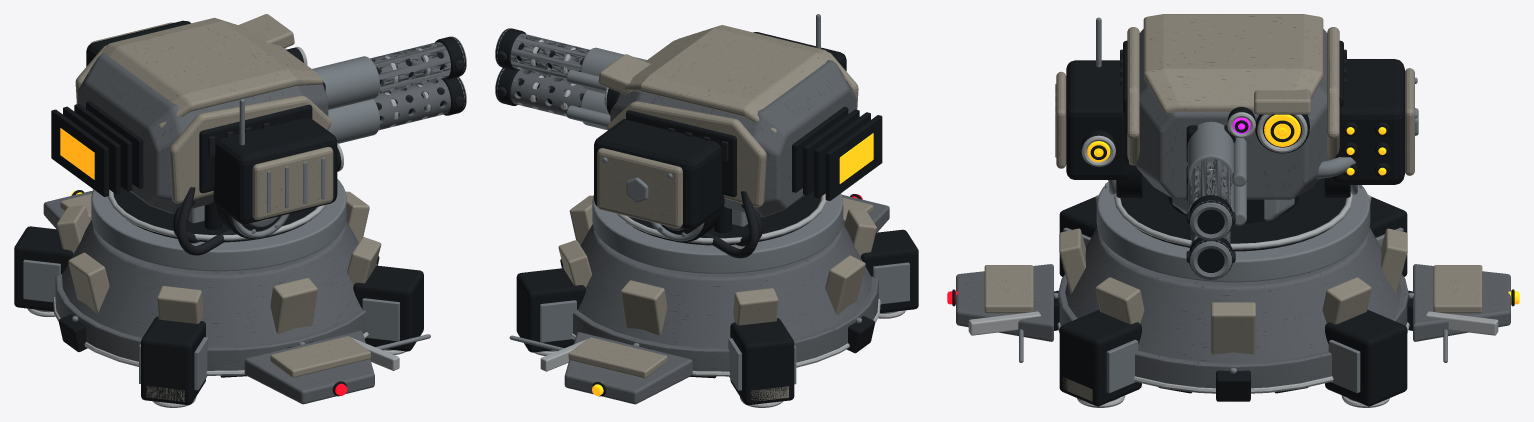
File: turret.glb
3 views of the same model, side by side, from view 1: azimuth 30°, elevation 25°; view 2: azimuth 150°, elevation 25°; view 3: azimuth 270°, elevation 25° (orthographic). The views are drawn at different scales.
Parts seen in each view (by area): view 1: AnchoredBase.001_CONCEPT2_armor.002, AimingHead.001_CONCEPT2_ceramic.002, AimingHead.001_CONCEPT2_dark.002, AimingHead.001_CONCEPT2_armor.002, AnchoredBase.001_CONCEPT2_dark.002, AnchoredBase.001_CONCEPT2_steel.002, AnchoredBase.001_CONCEPT2_ceramic.002, AimingHead.001_CONCEPT2_steel.002, AnchoredBase.001_CONCEPT2_edge.002, AimingHead.001_CONCEPT2_rubber.002, AimingHead.001_CONCEPT2_orange.002, AimingHead.001_CONCEPT2_edge.002; view 2: AnchoredBase.001_CONCEPT2_armor.002, AimingHead.001_CONCEPT2_ceramic.002, AimingHead.001_CONCEPT2_dark.002, AimingHead.001_CONCEPT2_armor.002, AnchoredBase.001_CONCEPT2_dark.002, AnchoredBase.001_CONCEPT2_steel.002, AnchoredBase.001_CONCEPT2_ceramic.002, AimingHead.001_CONCEPT2_steel.002, AnchoredBase.001_CONCEPT2_edge.002, AimingHead.001_CONCEPT2_rubber.002, AimingHead.001_CONCEPT2_orange.002, AimingHead.001_CONCEPT2_edge.002; view 3: AnchoredBase.001_CONCEPT2_armor.002, AimingHead.001_CONCEPT2_ceramic.002, AnchoredBase.001_CONCEPT2_dark.002, AimingHead.001_CONCEPT2_dark.002, AnchoredBase.001_CONCEPT2_ceramic.002, AnchoredBase.001_CONCEPT2_steel.002, AimingHead.001_CONCEPT2_armor.002, AimingHead.001_CONCEPT2_steel.002, AnchoredBase.001_CONCEPT2_edge.002, AimingHead.001_CONCEPT2_edge.002, AimingHead.001_CONCEPT2_orange.002.
Boxes of the visible parts, left/top/right/bottom form: AnchoredBase.001_CONCEPT2_armor.002: left=43, top=190, right=377, bottom=404; AimingHead.001_CONCEPT2_ceramic.002: left=75, top=14, right=333, bottom=219; AimingHead.001_CONCEPT2_dark.002: left=51, top=20, right=465, bottom=238; AimingHead.001_CONCEPT2_armor.002: left=77, top=42, right=450, bottom=227; AnchoredBase.001_CONCEPT2_dark.002: left=14, top=187, right=423, bottom=404; AnchoredBase.001_CONCEPT2_steel.002: left=23, top=179, right=430, bottom=390; AnchoredBase.001_CONCEPT2_ceramic.002: left=56, top=191, right=381, bottom=401; AimingHead.001_CONCEPT2_steel.002: left=188, top=36, right=466, bottom=238; AnchoredBase.001_CONCEPT2_edge.002: left=27, top=189, right=406, bottom=407; AimingHead.001_CONCEPT2_rubber.002: left=173, top=60, right=464, bottom=255; AimingHead.001_CONCEPT2_orange.002: left=60, top=128, right=94, bottom=179; AimingHead.001_CONCEPT2_edge.002: left=261, top=47, right=430, bottom=220; AnchoredBase.001_CONCEPT2_armor.002: left=562, top=194, right=889, bottom=404; AimingHead.001_CONCEPT2_ceramic.002: left=597, top=25, right=858, bottom=228; AimingHead.001_CONCEPT2_dark.002: left=496, top=28, right=882, bottom=241; AimingHead.001_CONCEPT2_armor.002: left=510, top=33, right=856, bottom=230; AnchoredBase.001_CONCEPT2_dark.002: left=516, top=191, right=918, bottom=405; AnchoredBase.001_CONCEPT2_steel.002: left=509, top=193, right=909, bottom=390; AnchoredBase.001_CONCEPT2_ceramic.002: left=558, top=195, right=876, bottom=400; AimingHead.001_CONCEPT2_steel.002: left=495, top=14, right=820, bottom=241; AnchoredBase.001_CONCEPT2_edge.002: left=534, top=193, right=905, bottom=407; AimingHead.001_CONCEPT2_rubber.002: left=497, top=51, right=762, bottom=258; AimingHead.001_CONCEPT2_orange.002: left=839, top=133, right=873, bottom=183; AimingHead.001_CONCEPT2_edge.002: left=530, top=39, right=608, bottom=114; AnchoredBase.001_CONCEPT2_armor.002: left=956, top=227, right=1510, bottom=388; AimingHead.001_CONCEPT2_ceramic.002: left=1056, top=14, right=1414, bottom=175; AnchoredBase.001_CONCEPT2_dark.002: left=952, top=174, right=1514, bottom=406; AimingHead.001_CONCEPT2_dark.002: left=1066, top=40, right=1404, bottom=279; AnchoredBase.001_CONCEPT2_ceramic.002: left=984, top=195, right=1482, bottom=401; AnchoredBase.001_CONCEPT2_steel.002: left=1019, top=181, right=1447, bottom=401; AimingHead.001_CONCEPT2_armor.002: left=1108, top=29, right=1328, bottom=244; AimingHead.001_CONCEPT2_steel.002: left=1055, top=17, right=1418, bottom=279; AnchoredBase.001_CONCEPT2_edge.002: left=968, top=192, right=1498, bottom=407; AimingHead.001_CONCEPT2_edge.002: left=1081, top=112, right=1307, bottom=175; AimingHead.001_CONCEPT2_orange.002: left=1087, top=114, right=1386, bottom=175.
Size of the model in its own units: 1.16 by 0.845 by 1.4.
9 materials, 3 textured.
